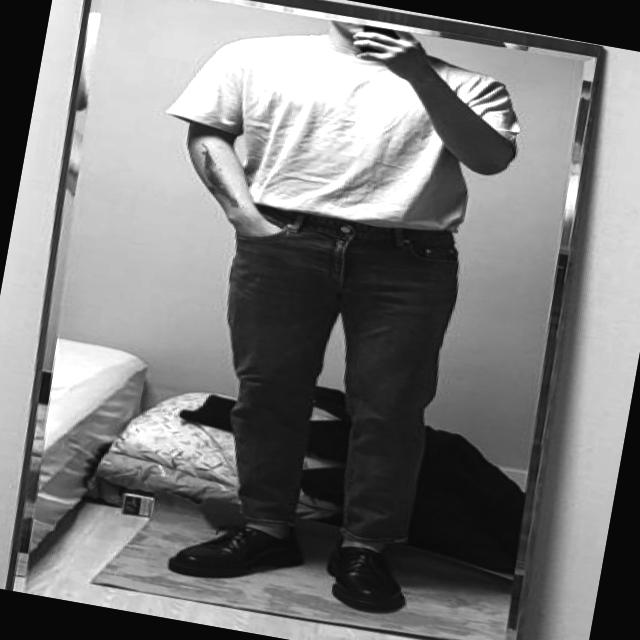denimpants: (188, 196, 465, 552)
shortsleeve: (150, 3, 534, 250)
